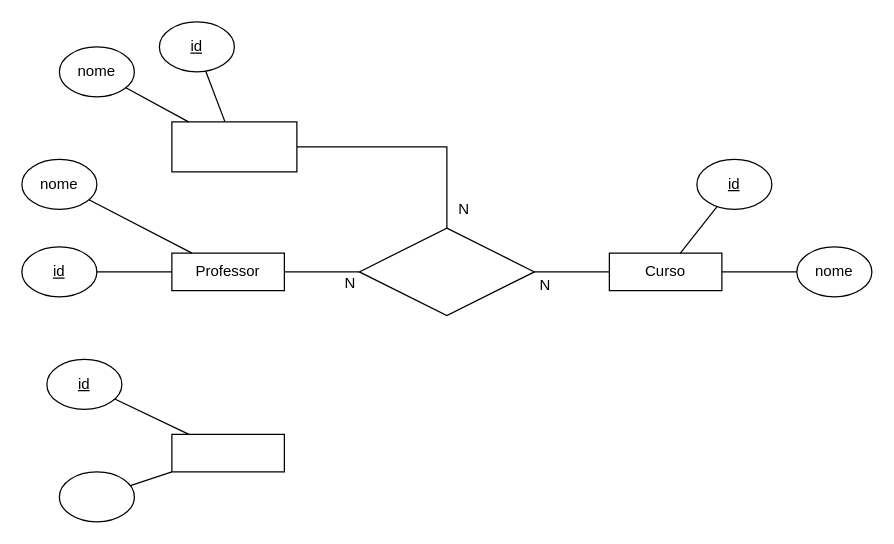
Some shapes in this 894 by 544 pixel diagram are drawn without their labels. The shapes that lost their labels are listed below. From the top down, each one's box as (x1, y1, x2, y2) in pixels, then its label:
(171, 121, 297, 172): Disciplina
(358, 227, 534, 316): disciplina_atribuida
(171, 433, 284, 472): Horario
